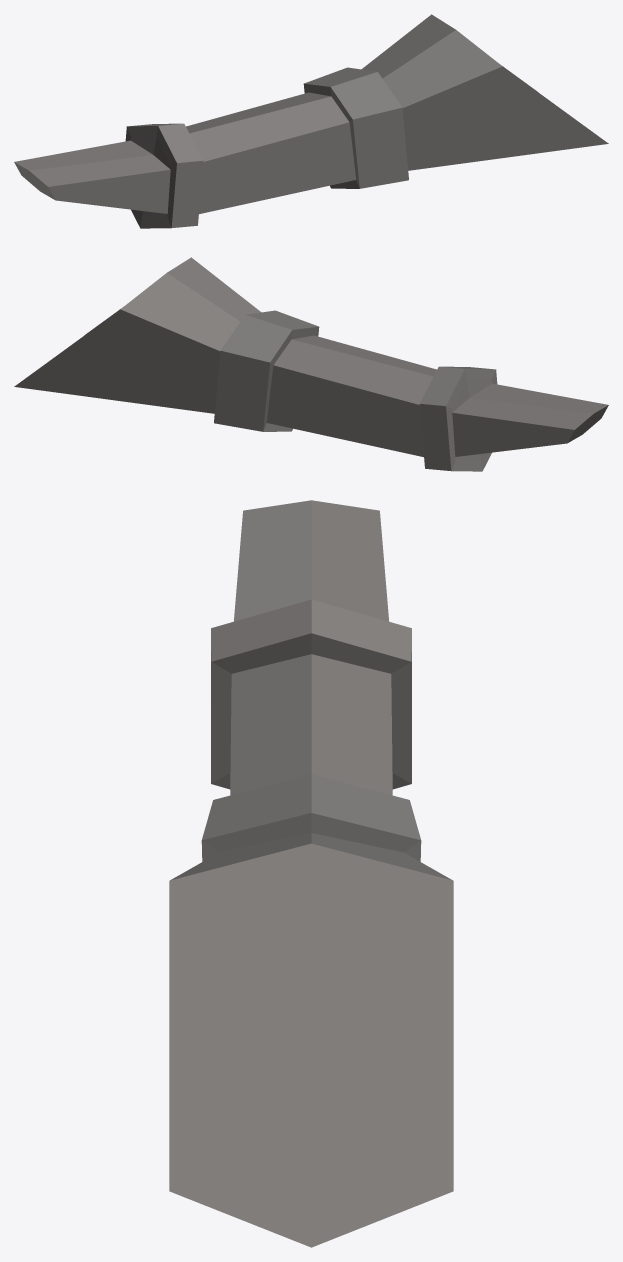
File: Arm1.fbx
The picture shows the model from 3 angles, top to bottom: view 1: azimuth 30°, elevation 25°; view 2: azimuth 150°, elevation 25°; view 3: azimuth 270°, elevation 25°; orthographic projection. The views are drawn at different scales.
Visible parts, largest first — view 1: Arm1.001; view 2: Arm1.001; view 3: Arm1.001.
Boxes of the visible parts, <box> form: Arm1.001: <box>14,14,608,228</box>; Arm1.001: <box>14,257,608,471</box>; Arm1.001: <box>169,500,453,1247</box>.
Bounding box in the file's own units: 52.71 × 12.7 × 11.69.
1 material, 1 textured.
